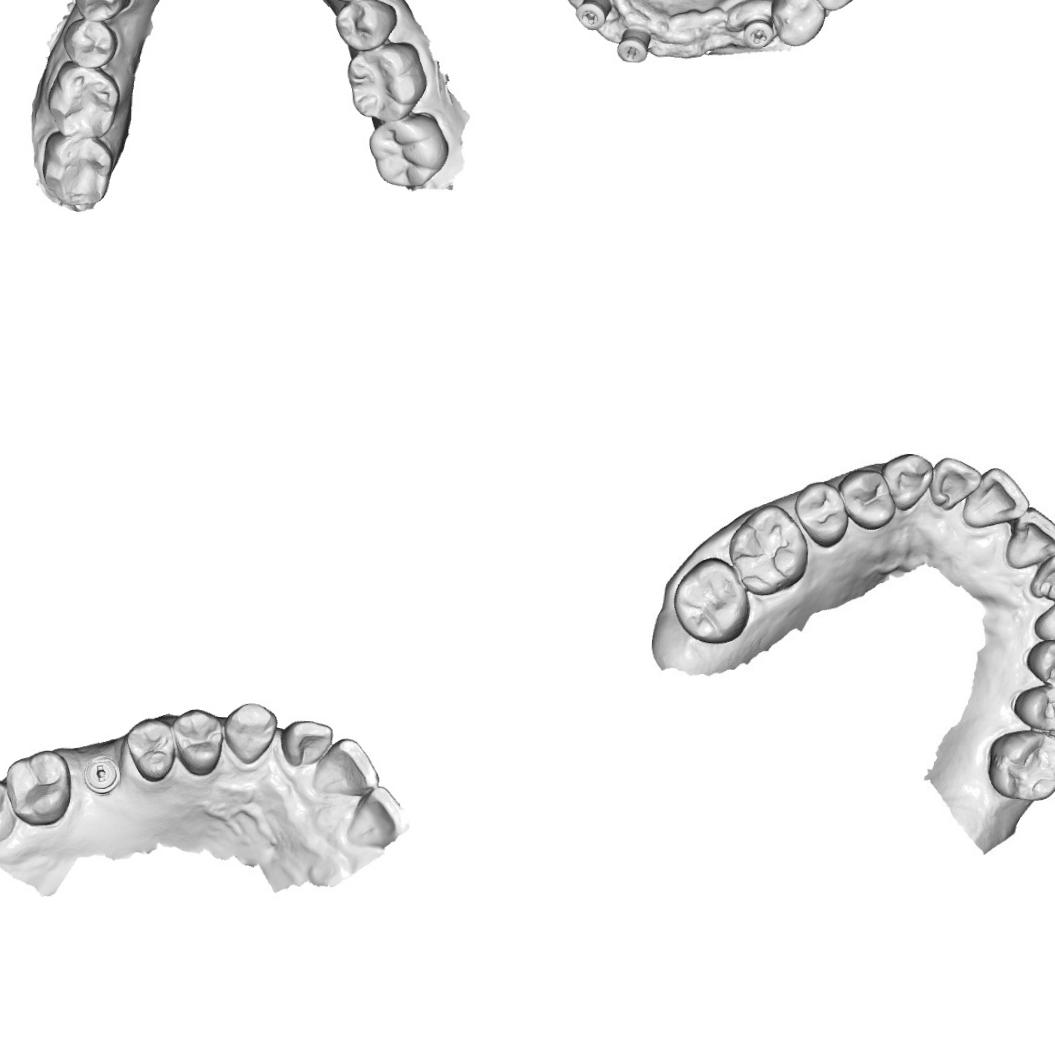canine: (221, 698, 279, 767), (880, 448, 938, 516), (1030, 594, 1055, 646)
implant_minus: (81, 754, 123, 797), (614, 29, 651, 64)
implant_plus: (574, 0, 613, 31), (742, 21, 774, 54)
incisor: (313, 735, 383, 802), (962, 468, 1034, 530), (345, 783, 405, 849), (1000, 505, 1055, 572), (278, 717, 336, 770), (931, 454, 983, 510), (1027, 550, 1055, 604)
inlay: (1043, 645, 1055, 689)
molar: (725, 500, 807, 596), (669, 556, 752, 646), (346, 38, 429, 125), (365, 110, 449, 192), (2, 746, 76, 829), (45, 62, 124, 138), (39, 134, 115, 212), (985, 724, 1055, 808), (0, 774, 17, 850)
premolar: (793, 480, 850, 552), (122, 714, 178, 784), (839, 464, 894, 534), (170, 706, 224, 776), (333, 0, 400, 54), (60, 17, 119, 69), (769, 0, 826, 50), (1011, 683, 1055, 735), (70, 0, 134, 26)
